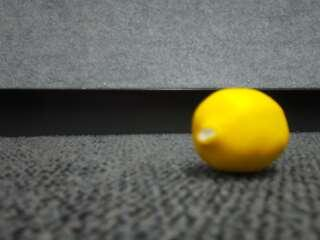lemon: (194, 89, 290, 172)
